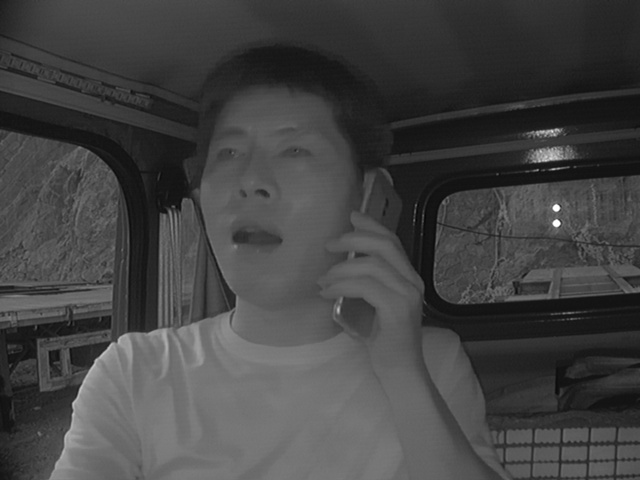hand: (319, 212, 424, 358)
